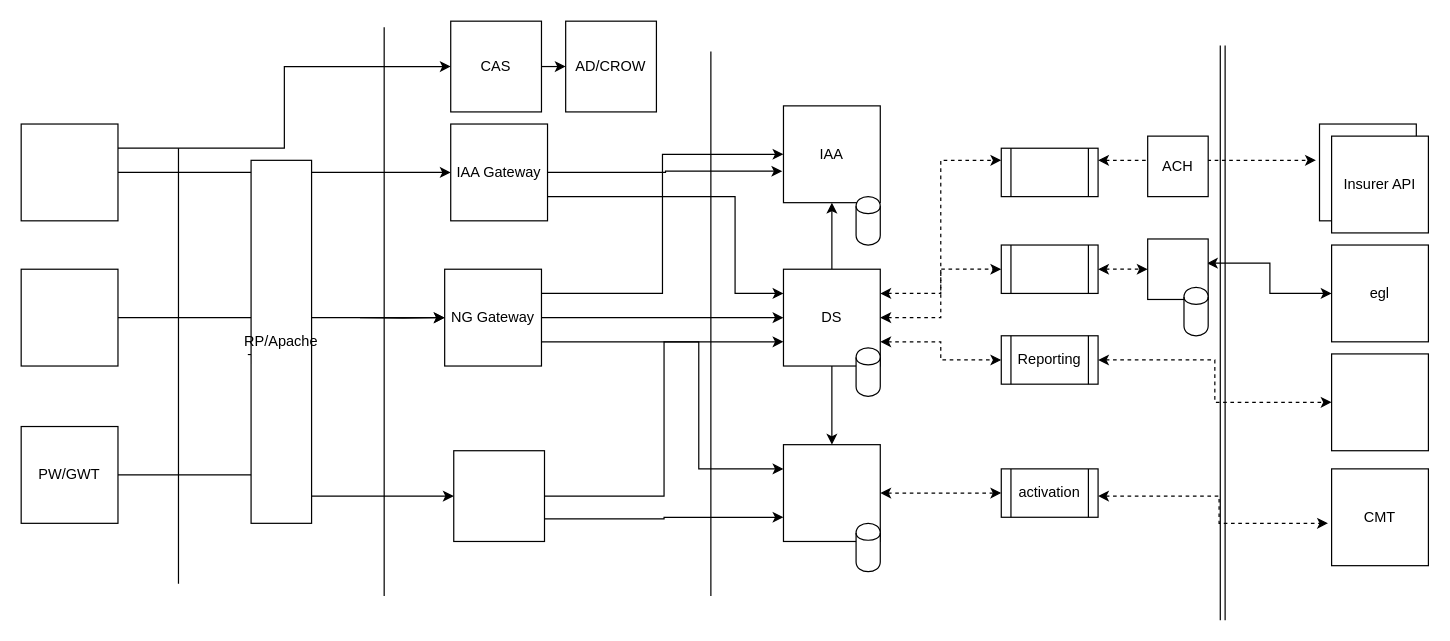
Some shapes in this 1450 by 641 pixel diagram are drawn without their labels. The shapes that lost their labels are listed below. From the top down, each one's box as (x1, y1, x2, y2) in pixels, then its label:
(20, 123, 118, 221): IAA/A
(1000, 147, 1098, 197): Trade/Bind/CLose
(1000, 244, 1098, 293): Policy
(1146, 238, 1208, 299): PolicyS
(20, 268, 118, 366): NG/A
(1330, 353, 1428, 451): Grip
(453, 450, 544, 541): PW
(782, 443, 880, 541): CRM
